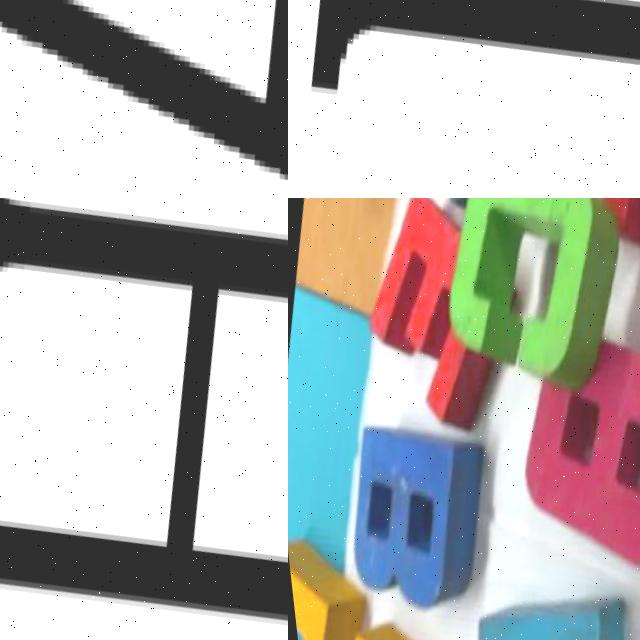A: (0, 0, 288, 198), (487, 318, 640, 574)
B: (312, 395, 489, 629)
C: (420, 198, 627, 393)
E: (338, 198, 518, 445)
L: (288, 526, 365, 640)
P: (435, 543, 626, 640)
U: (288, 0, 640, 198)
